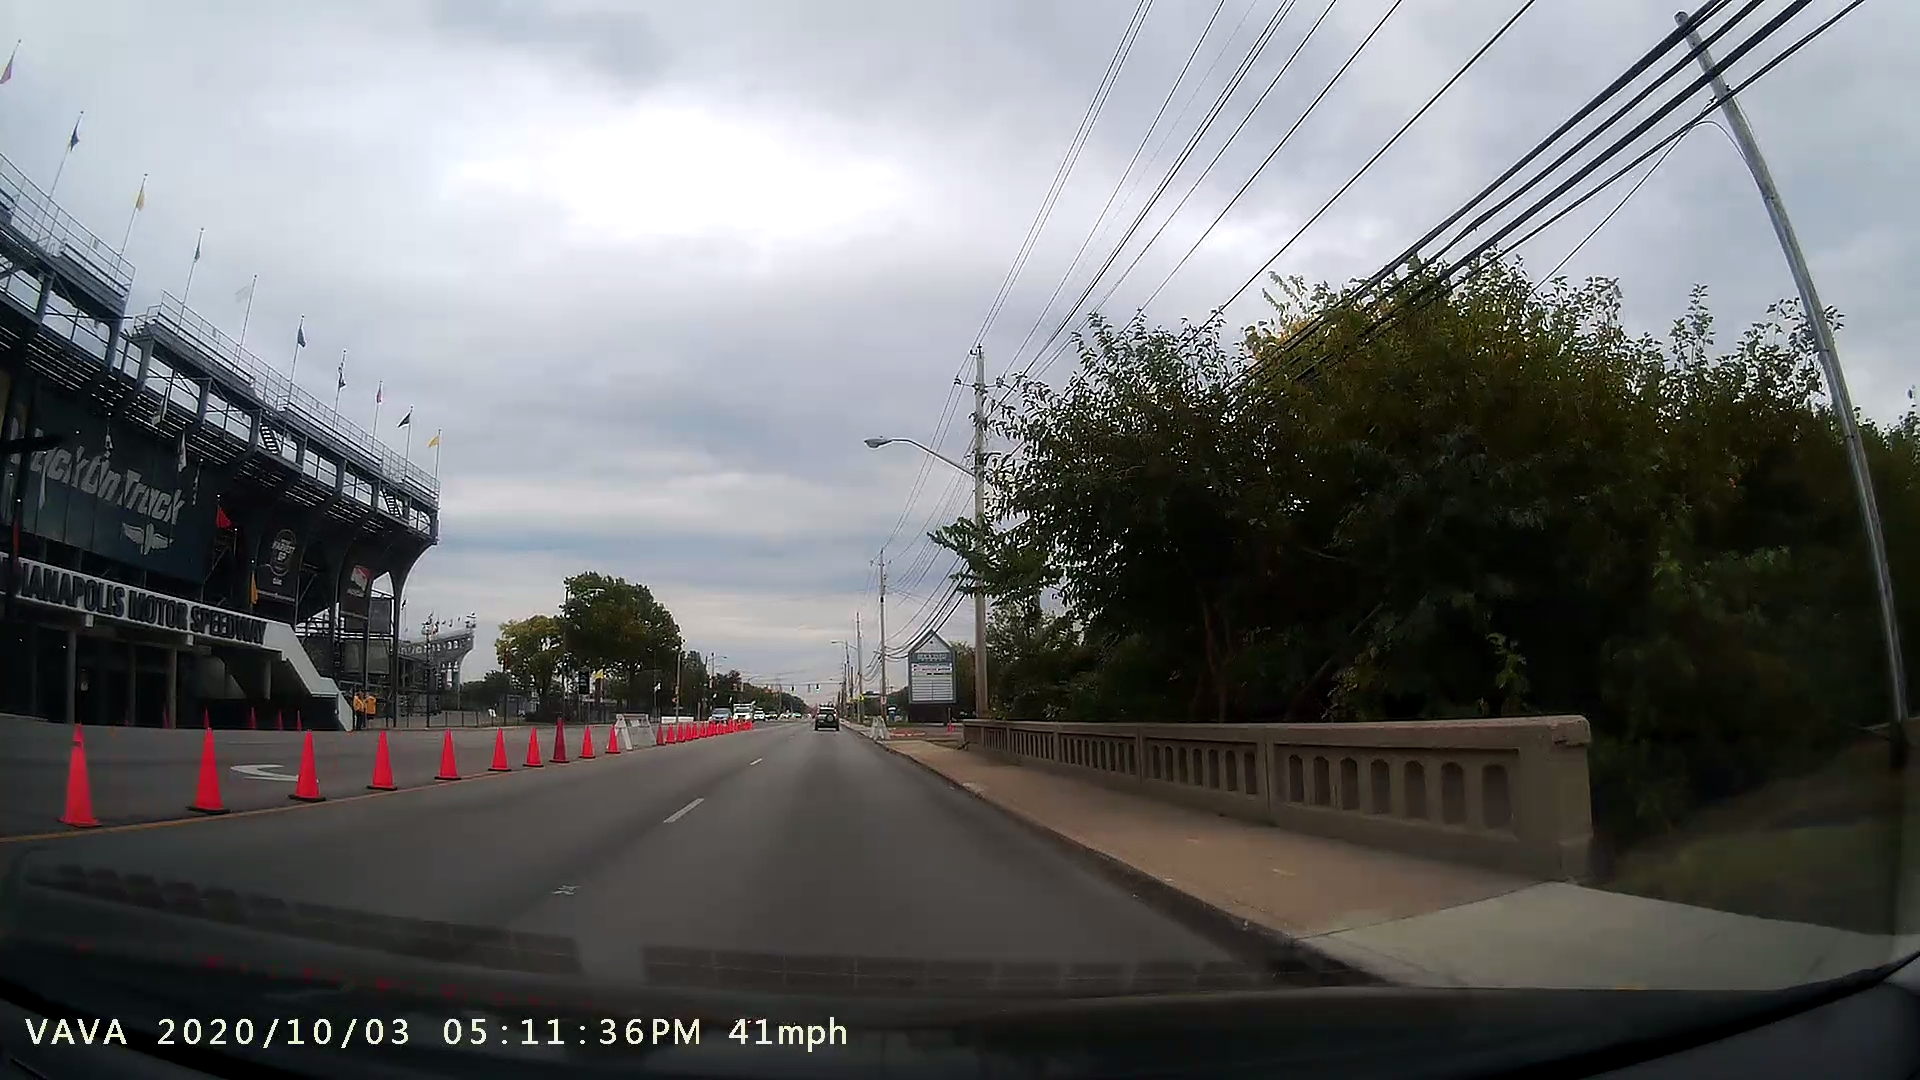const_cone: (42, 704, 104, 839), (182, 717, 240, 825), (357, 708, 410, 799), (284, 717, 330, 808), (433, 713, 469, 790), (483, 716, 521, 786), (520, 721, 550, 766)
